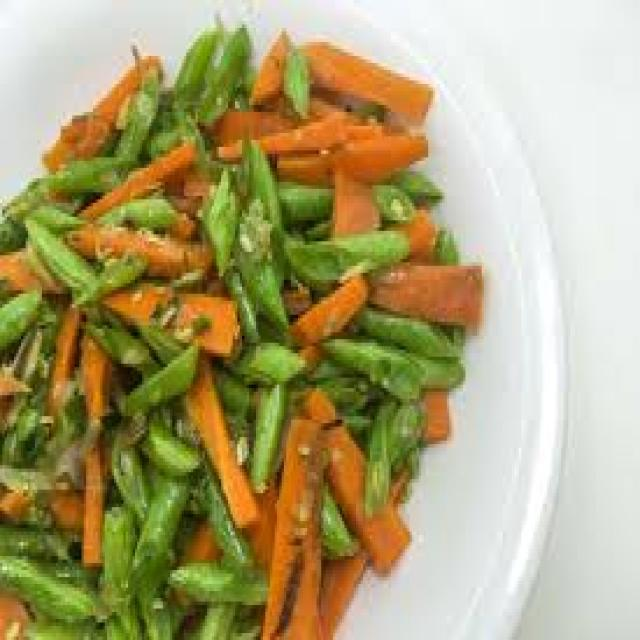kacang_panjang: (95, 311, 228, 640), (49, 28, 255, 200), (5, 385, 90, 639), (199, 160, 311, 305), (342, 304, 464, 416), (23, 210, 137, 308)
wortel: (227, 34, 442, 211), (275, 411, 379, 620), (366, 248, 487, 316)
